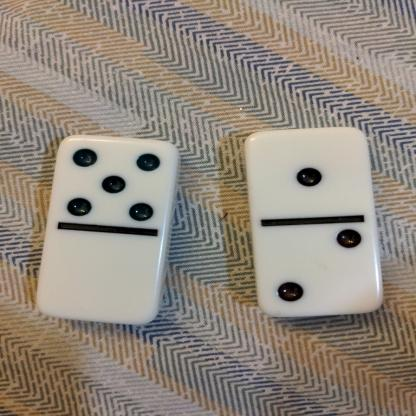pip-1: (243, 128, 375, 220)
pip-2: (250, 219, 382, 317)
pip-5: (55, 136, 177, 230)
